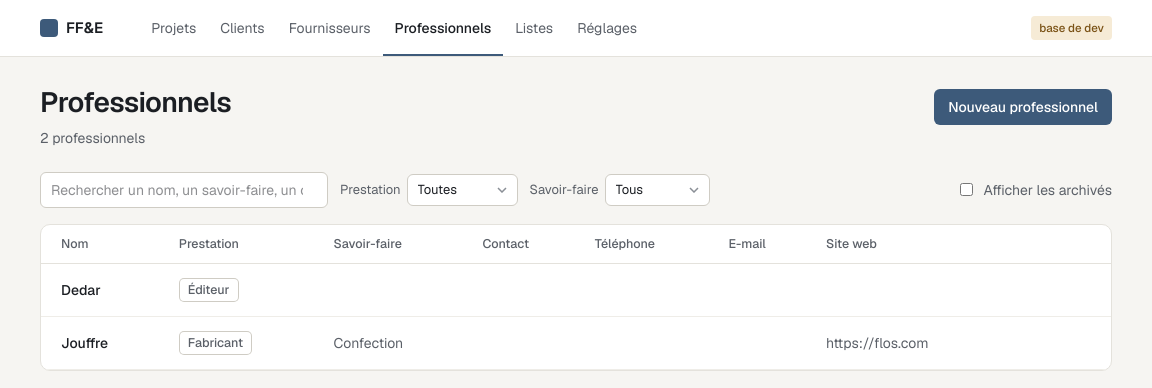
Test: professionnels › filtre par prestation et par savoir-faire
Expected: the text "Jouffre" is shown, [61, 334, 108, 352]
Select "Éditeur" in the dropdown labelled "Prestation" at (462, 190), box [406, 174, 518, 206]
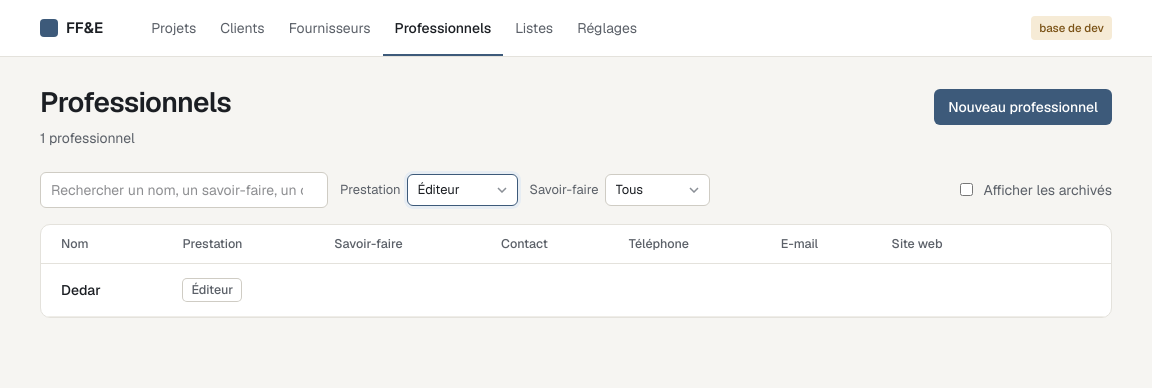
Expected: the text "Dedar" is shown, [61, 281, 101, 299]
Expected: the text "Jouffre" is gone
Select "Toutes" in the dropdown labelled "Prestation" at (462, 190), box [406, 174, 518, 206]
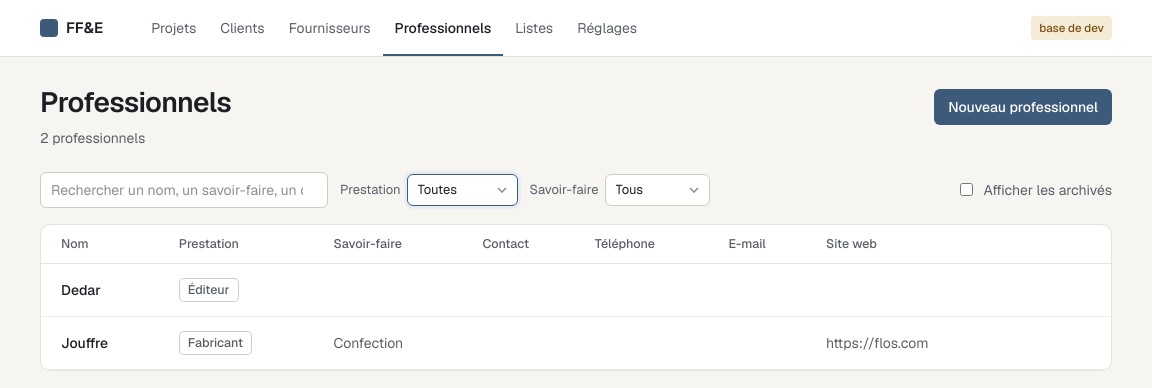
Select "Confection" in the dropdown labelled "Savoir-faire" at (657, 190), box [604, 174, 710, 206]
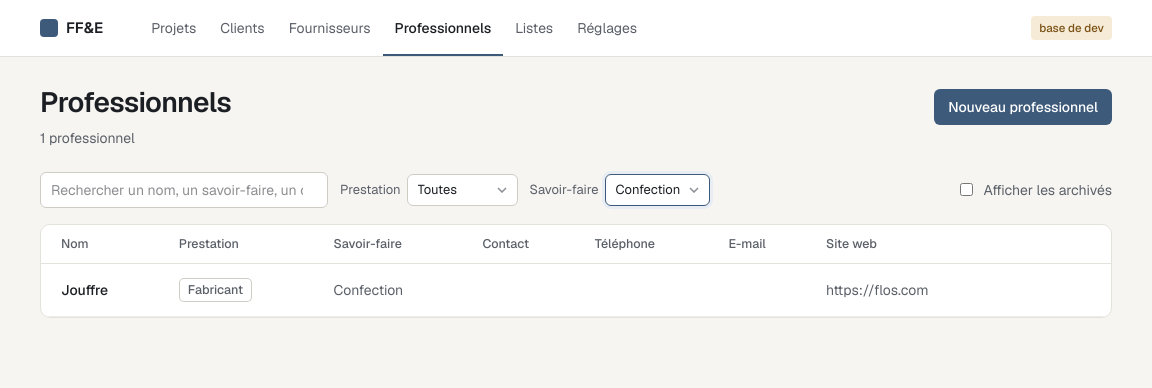
Expected: the text "Jouffre" is shown, [61, 281, 108, 299]
Expected: the text "Dedar" is gone
